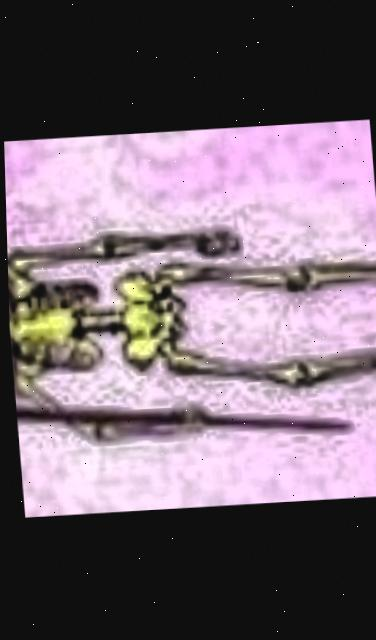La Muerte: (3, 120, 376, 517)
